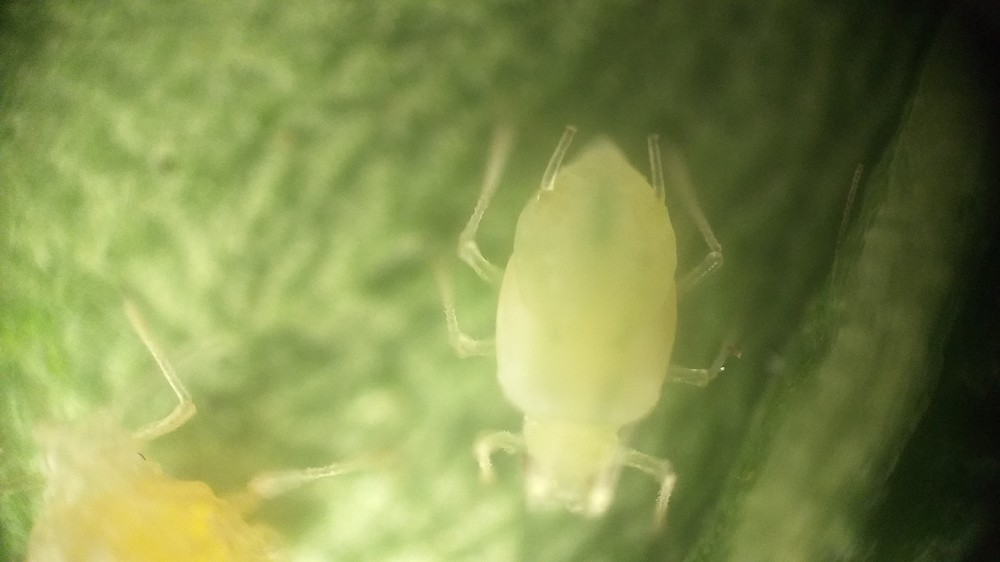Pulgon: (394, 116, 779, 542)
